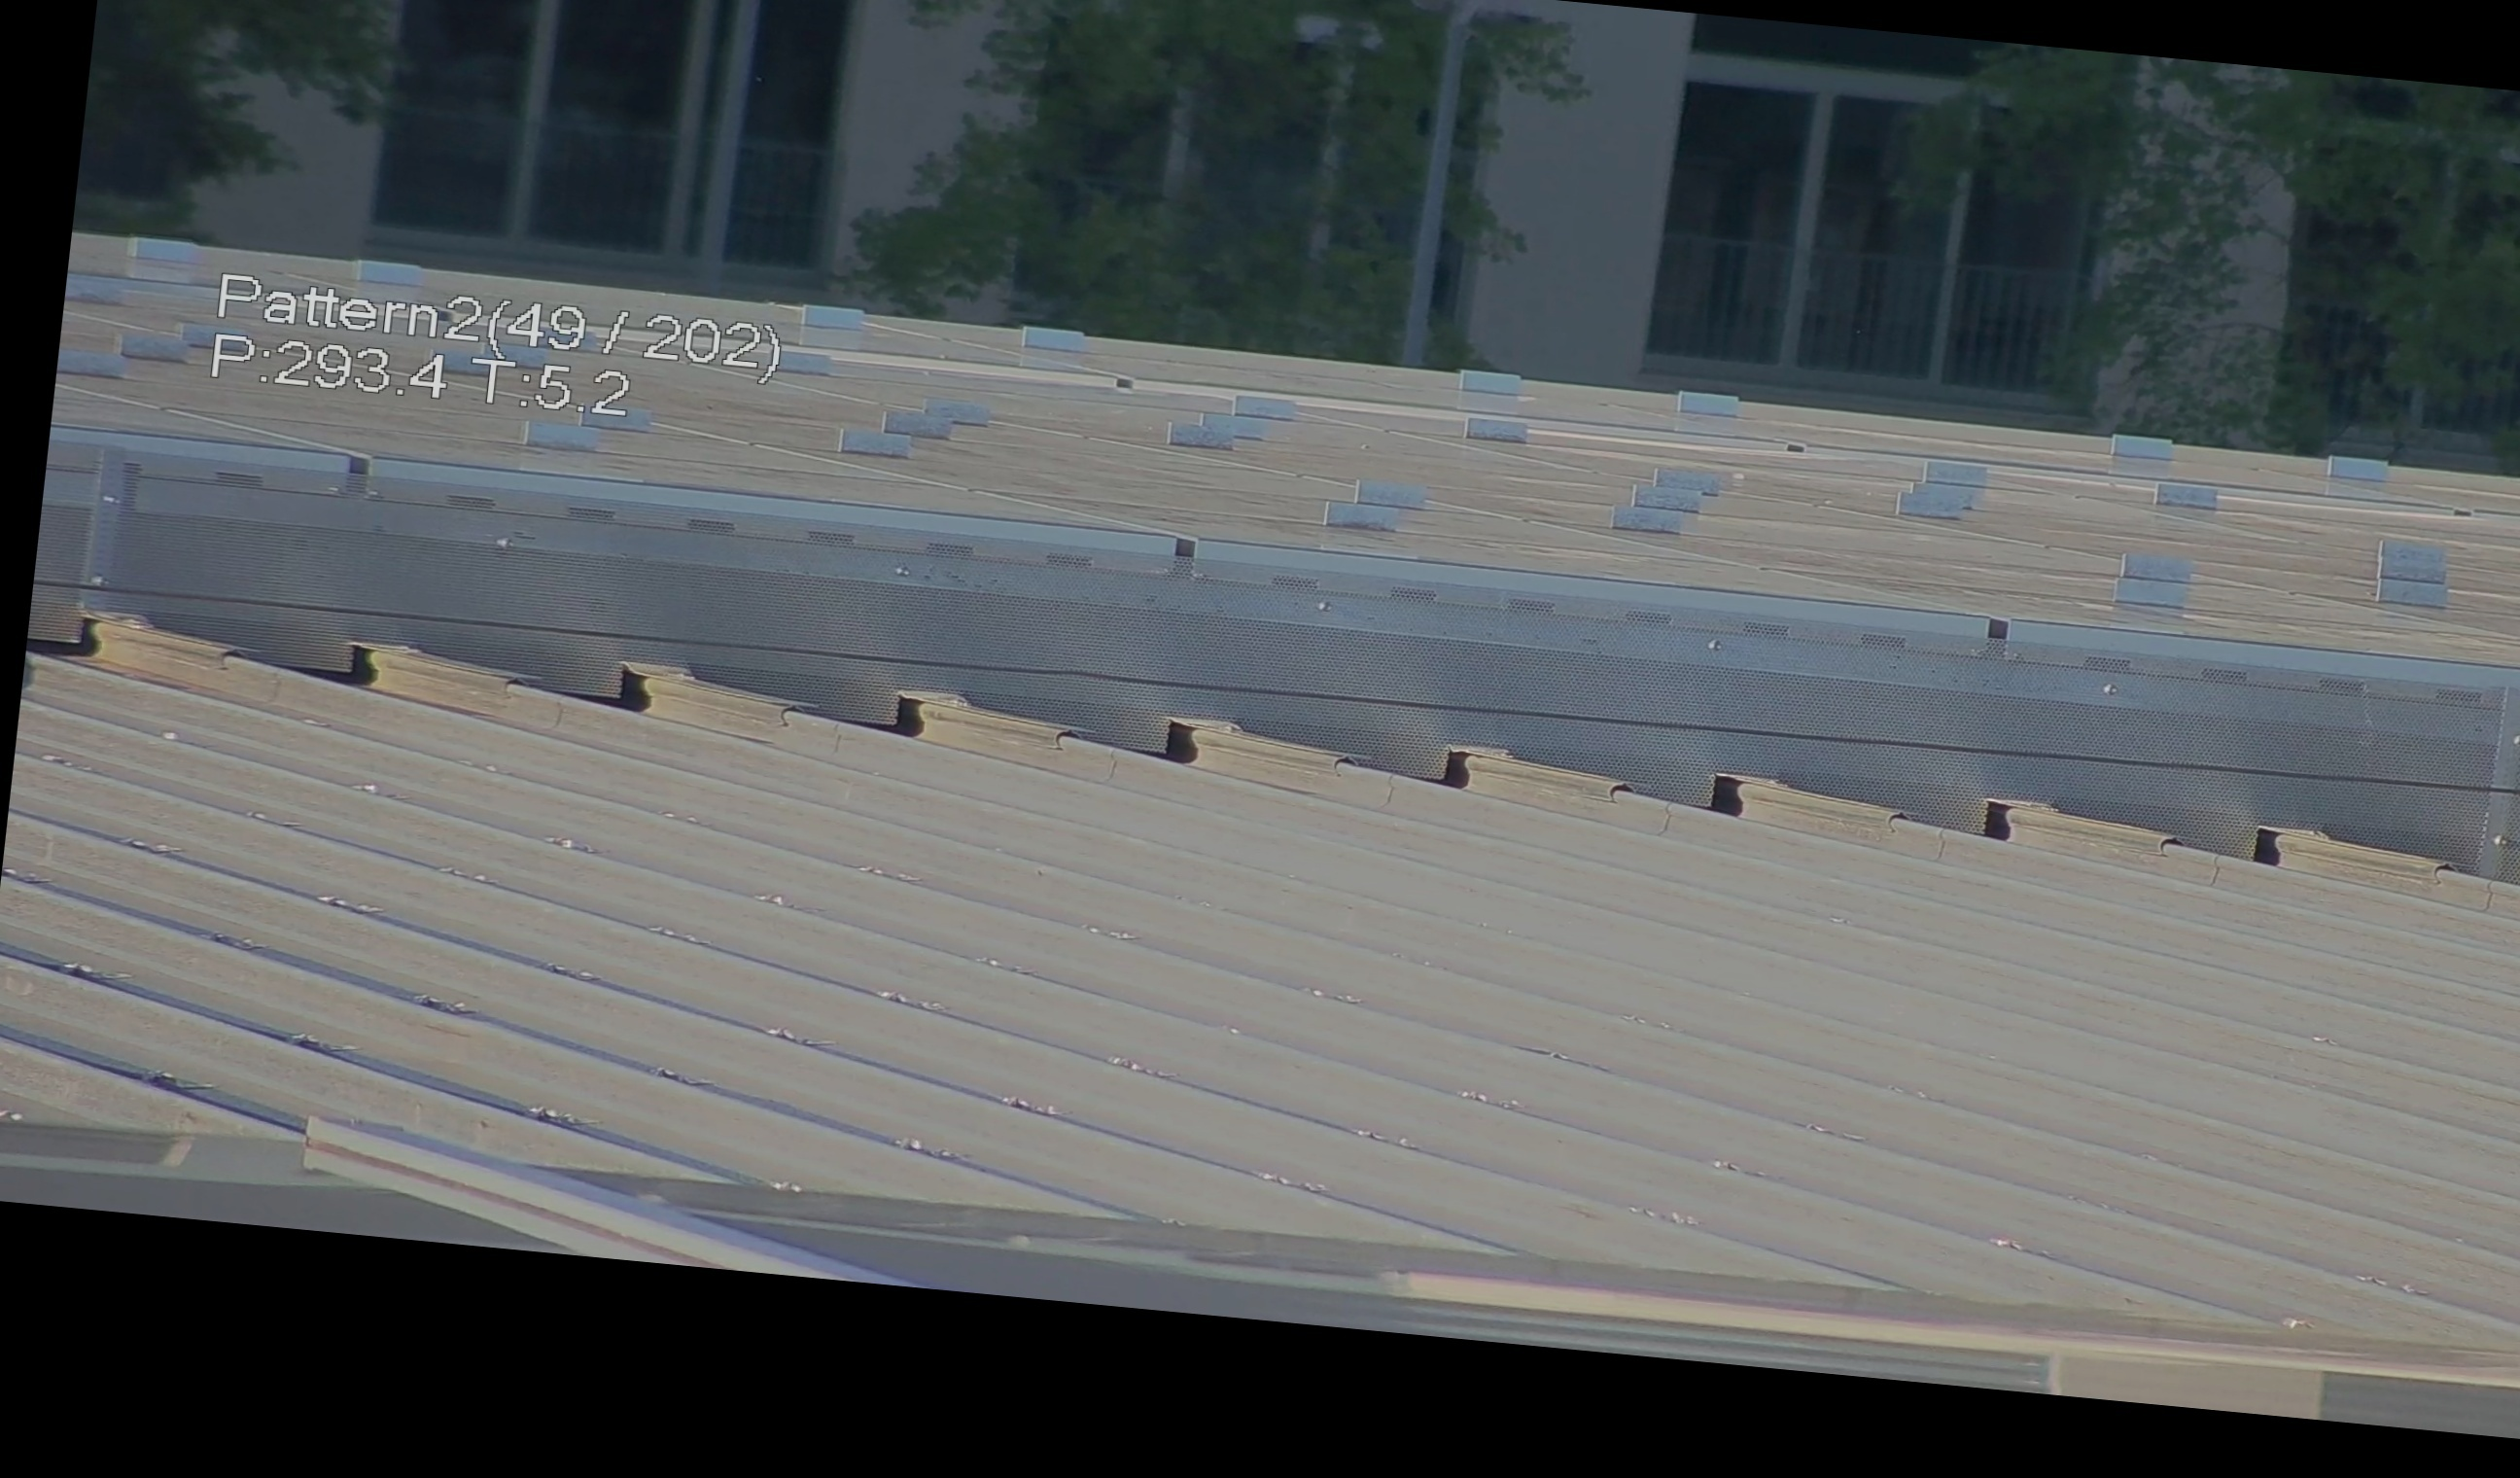Other: (572, 651, 649, 714)
